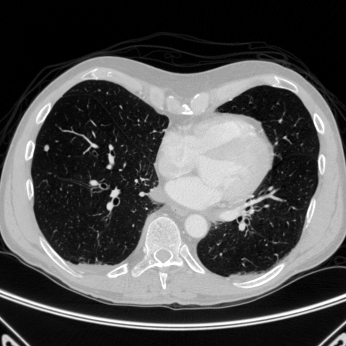nodule: (43, 145, 49, 151)
